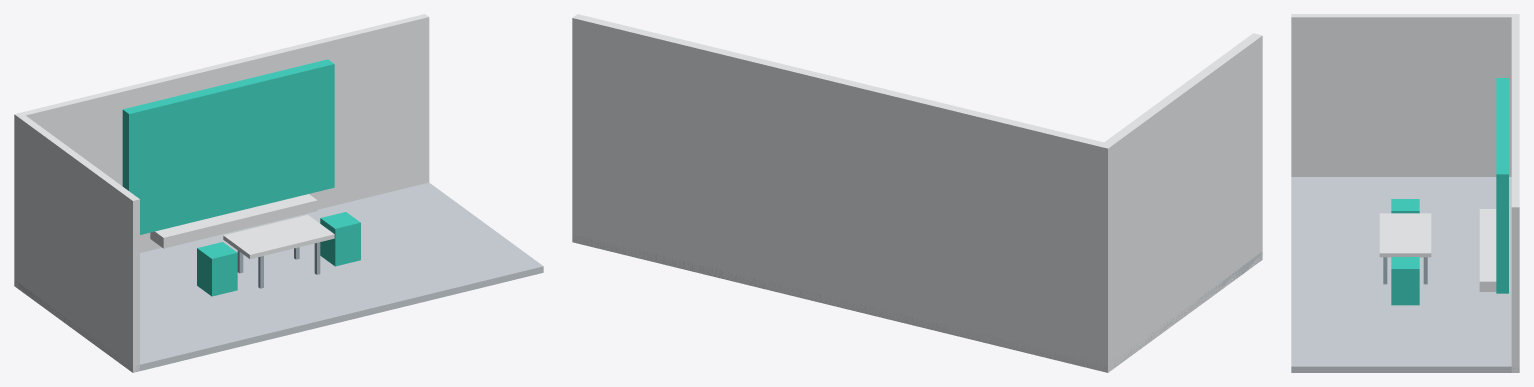
The picture shows the model from 3 angles, left to right: view 1: azimuth 30°, elevation 25°; view 2: azimuth 150°, elevation 25°; view 3: azimuth 270°, elevation 25°; orthographic projection. The views are drawn at different scales.
Parts seen in each view (by area): view 1: Exhibition Booth Concept; view 2: Exhibition Booth Concept; view 3: Exhibition Booth Concept.
Part boxes in pixels (box(x1,y1,x2,y2)): Exhibition Booth Concept: box(14, 14, 543, 372); Exhibition Booth Concept: box(572, 14, 1262, 372); Exhibition Booth Concept: box(1291, 14, 1519, 372).
Bounding box in the file's own units: 8 × 3.2 × 4.
